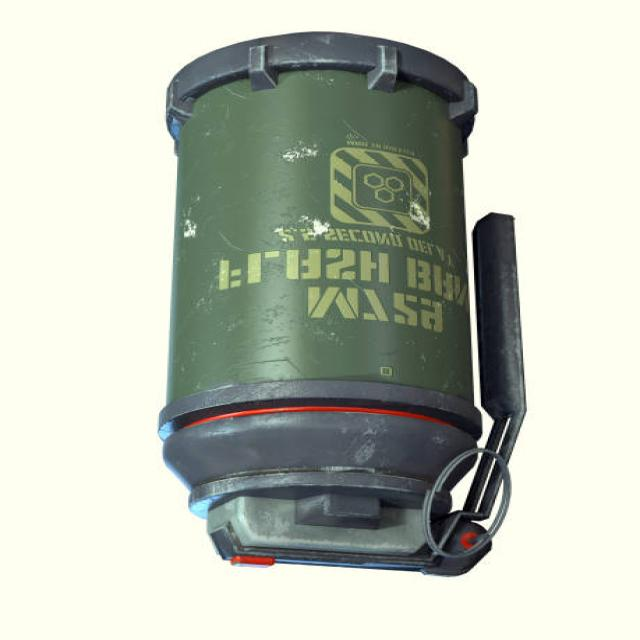grenade: (142, 23, 550, 591)
